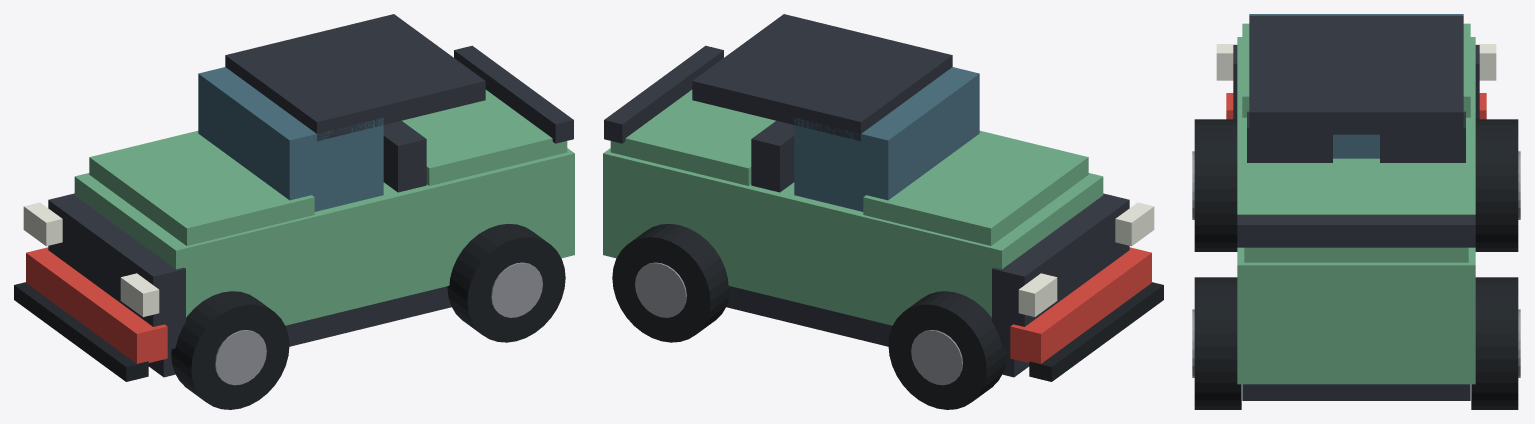
Rendered from ESF_V2_Adventure_Electric_Pickup_ThreeJS_YUp.glb.
The picture shows the model from 3 angles, left to right: view 1: azimuth 30°, elevation 25°; view 2: azimuth 150°, elevation 25°; view 3: azimuth 270°, elevation 25°; orthographic projection. The views are drawn at different scales.
Visible parts, largest first — view 1: Body_Shell, Roof, Windshield_Glass, Front_Hood, Wheel_Rear_Left, Wheel_Front_Left, Front_Fascia, Rear_Deck_Cover, Front_Bumper, Chassis_Frame, Rear_Spoiler_Blade, Front_Splitter (+5 smaller); view 2: Body_Shell, Roof, Windshield_Glass, Front_Hood, Wheel_Rear_Right, Wheel_Front_Right, Front_Fascia, Rear_Deck_Cover, Front_Bumper, Chassis_Frame, Rear_Spoiler_Blade, Front_Splitter (+5 smaller); view 3: Body_Shell, Roof, Rear_Deck_Cover, Rear_Spoiler_Blade, Wheel_Rear_Left, Wheel_Rear_Right, Wheel_Front_Left, Wheel_Front_Right, Chassis_Frame, Driver_Seat_Backrest, Passenger_Seat_Backrest, Windshield_Glass (+5 smaller).
Boxes of the visible parts, bbox=[...] form: Body_Shell: bbox=[74, 148, 574, 325]; Roof: bbox=[225, 14, 485, 141]; Windshield_Glass: bbox=[198, 67, 383, 211]; Front_Hood: bbox=[89, 130, 314, 245]; Wheel_Rear_Left: bbox=[447, 224, 565, 342]; Wheel_Front_Left: bbox=[171, 291, 289, 409]; Front_Fascia: bbox=[48, 193, 185, 349]; Rear_Deck_Cover: bbox=[402, 90, 567, 185]; Front_Bumper: bbox=[26, 247, 167, 363]; Chassis_Frame: bbox=[148, 286, 451, 377]; Rear_Spoiler_Blade: bbox=[454, 45, 573, 143]; Front_Splitter: bbox=[14, 282, 148, 381]; Body_Shell: bbox=[603, 148, 1103, 325]; Roof: bbox=[692, 14, 952, 141]; Windshield_Glass: bbox=[794, 67, 979, 211]; Front_Hood: bbox=[863, 130, 1088, 245]; Wheel_Rear_Right: bbox=[612, 224, 730, 342]; Wheel_Front_Right: bbox=[888, 291, 1006, 409]; Front_Fascia: bbox=[992, 193, 1129, 349]; Rear_Deck_Cover: bbox=[610, 90, 775, 185]; Front_Bumper: bbox=[1010, 247, 1151, 363]; Chassis_Frame: bbox=[726, 286, 1029, 377]; Rear_Spoiler_Blade: bbox=[604, 45, 723, 143]; Front_Splitter: bbox=[1029, 282, 1163, 381]; Body_Shell: bbox=[1237, 37, 1475, 384]; Roof: bbox=[1249, 15, 1463, 134]; Rear_Deck_Cover: bbox=[1244, 163, 1468, 262]; Rear_Spoiler_Blade: bbox=[1237, 214, 1475, 247]; Wheel_Rear_Left: bbox=[1194, 277, 1241, 409]; Wheel_Rear_Right: bbox=[1471, 277, 1518, 409]; Wheel_Front_Left: bbox=[1194, 119, 1237, 251]; Wheel_Front_Right: bbox=[1475, 119, 1518, 251]; Chassis_Frame: bbox=[1242, 384, 1470, 400]; Driver_Seat_Backrest: bbox=[1247, 111, 1332, 162]; Passenger_Seat_Backrest: bbox=[1380, 111, 1465, 162]; Windshield_Glass: bbox=[1249, 14, 1463, 158].
Bounding box in the file's own units: 4.44 × 2.29 × 2.37.
